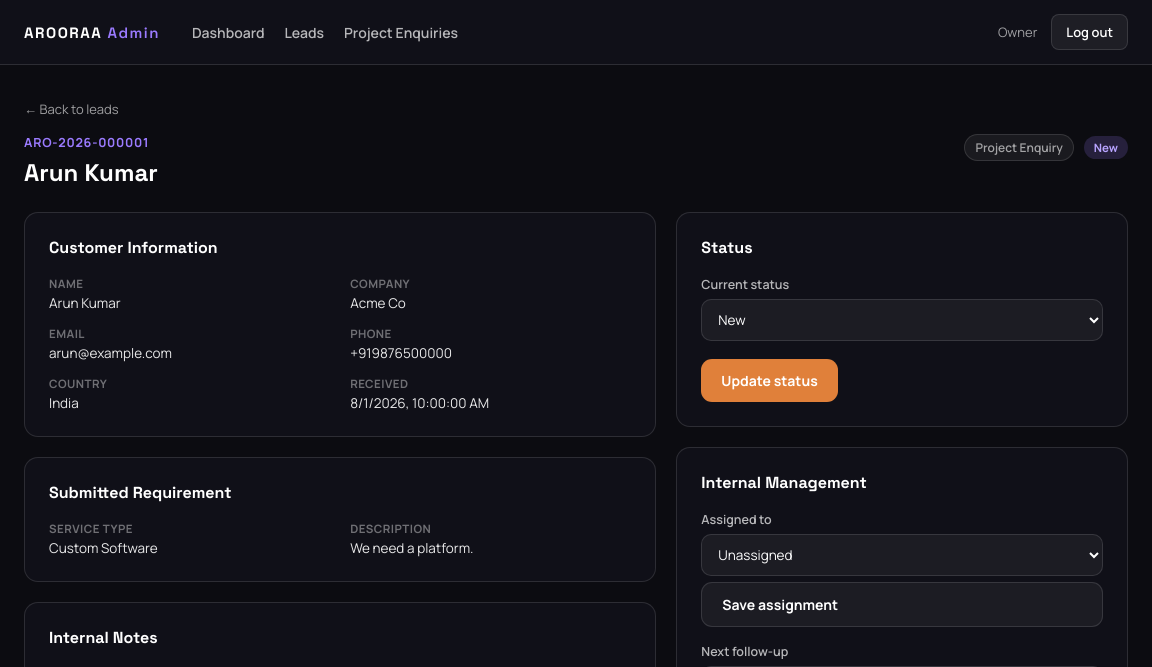
Test: AdminLeadDetailPage › updates status
Expected: the text "ARO-2026-000001" is shown, [24,134,158,151]
Select "Contacted" in the dropdown labelled "Current status" at (902, 320), box [701,299,1103,341]
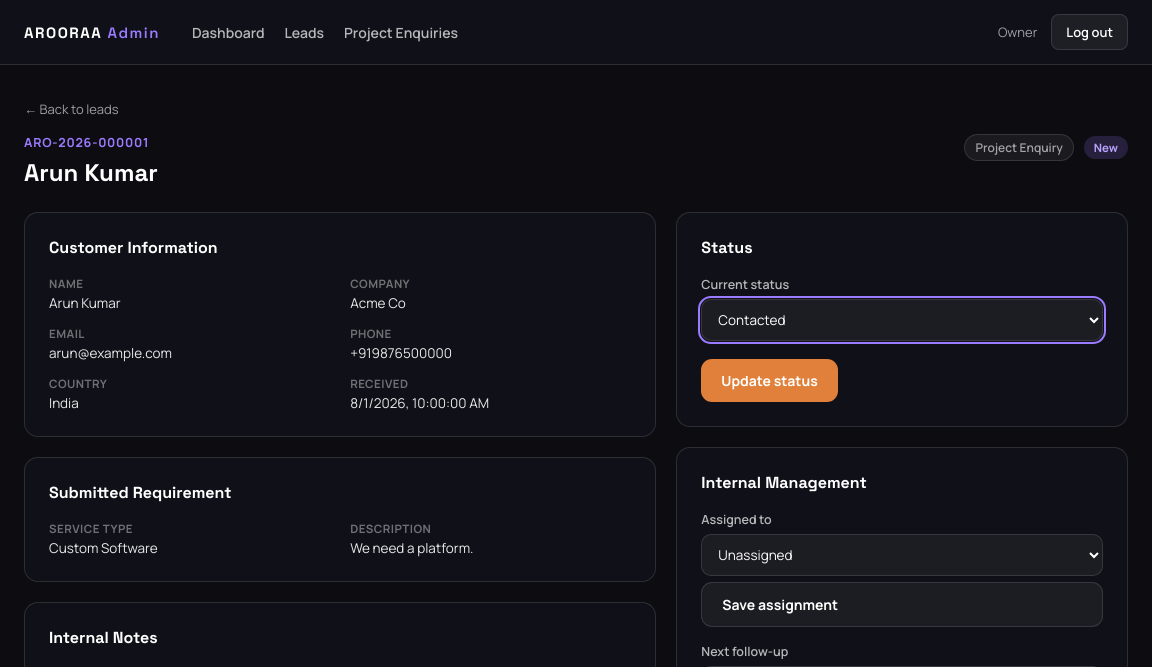
Click the button "Update status" at (770, 380), box [701,359,838,402]
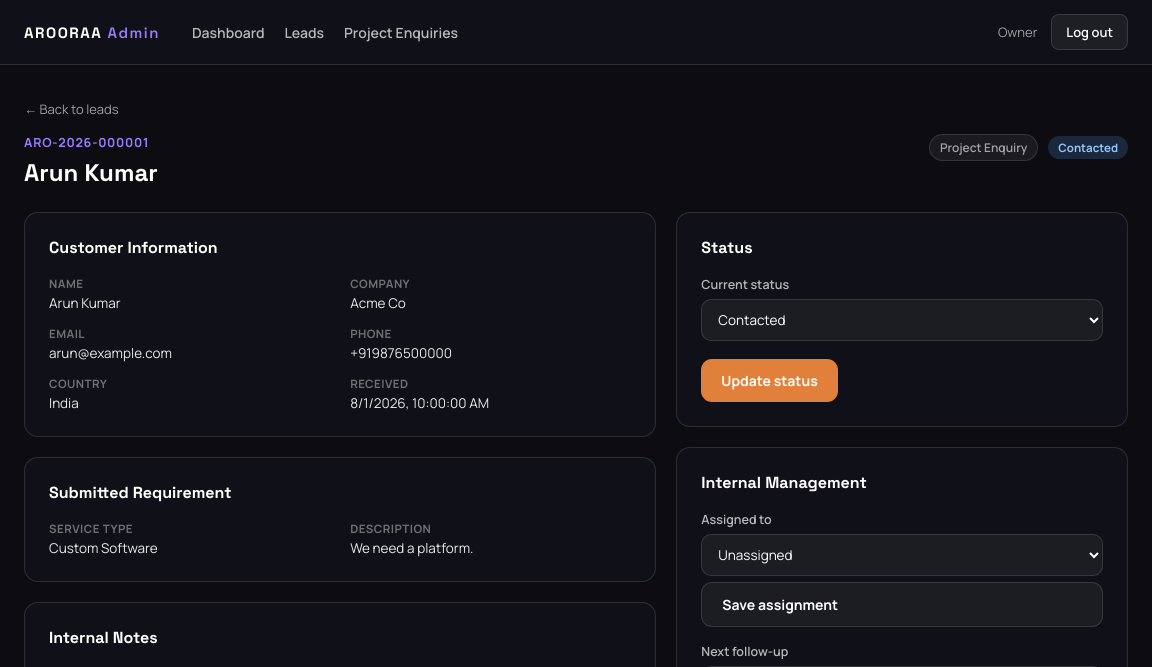
Result: the text "Contacted" is shown at [1048,136,1128,159]
